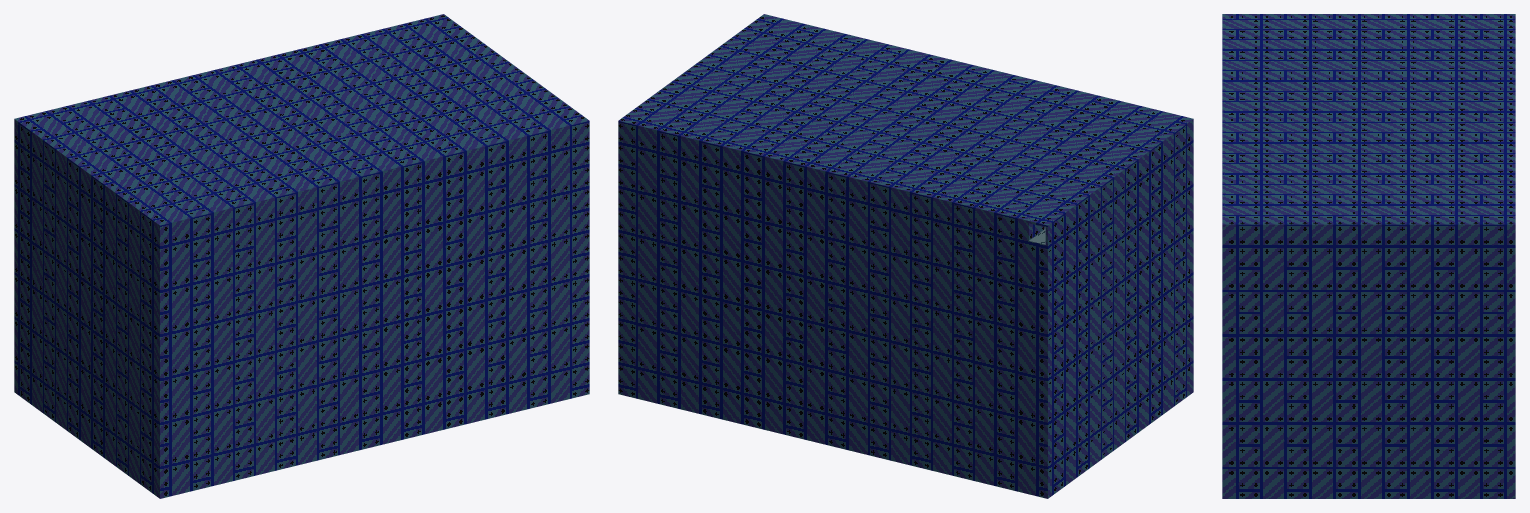
3 views of the same model, side by side, from view 1: azimuth 30°, elevation 25°; view 2: azimuth 150°, elevation 25°; view 3: azimuth 270°, elevation 25° (orthographic).
Visible parts, largest first — view 1: entity0_brush4, entity0_brush1, entity0_brush2, entity0_brush5; view 2: entity0_brush0, entity0_brush1, entity0_brush2, entity0_brush3, entity0_brush4, entity0_brush5; view 3: entity0_brush5, entity0_brush1, entity0_brush4.
Part boxes in pixels (x1,y1,x2,y2): entity0_brush4: (159, 120, 587, 498); entity0_brush1: (14, 14, 585, 226); entity0_brush2: (14, 121, 158, 497); entity0_brush5: (442, 14, 589, 394); entity0_brush0: (620, 141, 1045, 498); entity0_brush1: (620, 15, 1192, 227); entity0_brush2: (1045, 122, 1192, 498); entity0_brush3: (620, 123, 1044, 240); entity0_brush4: (765, 14, 1193, 392); entity0_brush5: (618, 14, 765, 394); entity0_brush5: (1222, 223, 1515, 498); entity0_brush1: (1225, 14, 1515, 223); entity0_brush4: (1222, 14, 1224, 223).
Bounding box in the file's own units: 3264 × 1984 × 1920.
